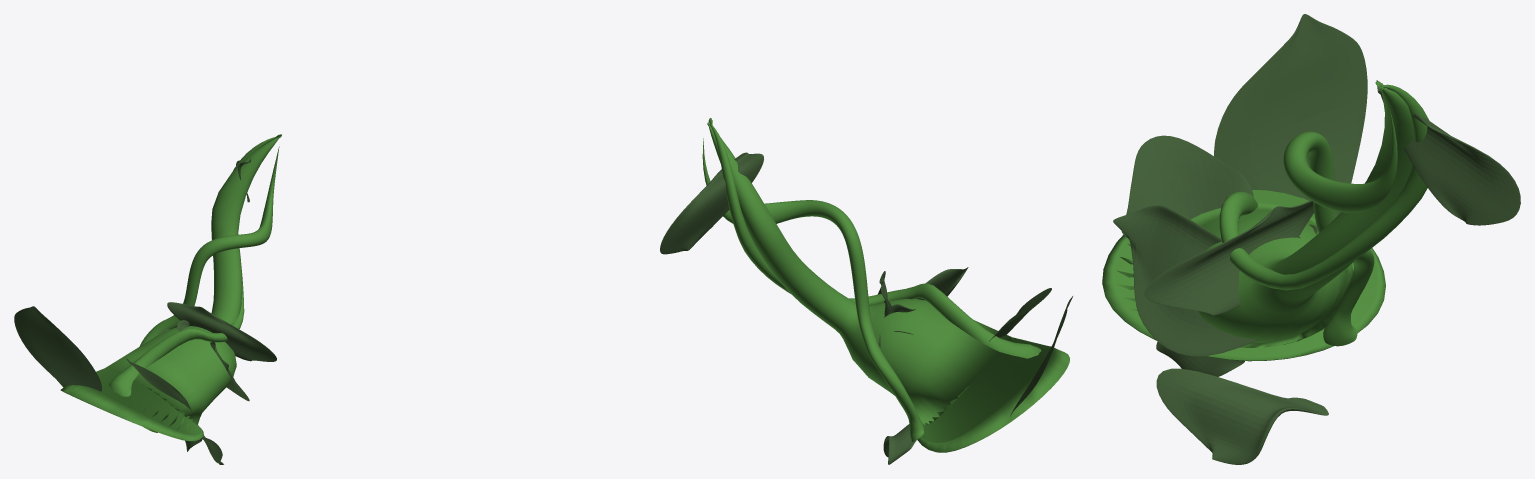
The model's file is BeansalkBridge#02.fbx.
3 renders of one model, left to right at view 1: azimuth 30°, elevation 25°; view 2: azimuth 150°, elevation 25°; view 3: azimuth 270°, elevation 25°, orthographic. The views are drawn at different scales.
Visible parts, largest first — view 1: Stalk12.066, Stalk12.066|Plane.016|Dupli|2, Stalk12.085, Stalk12.084, Stalk12.066|Plane.016|Dupli|, Stalk12.066|Plane.016|Dupli|7; view 2: Stalk12.066, Stalk12.085, Stalk12.084, Stalk12.066|Plane.016|Dupli|5, Stalk12.066|Plane.016|Dupli|3, Stalk12.066|Plane.016|Dupli|6; view 3: Stalk12.066, Stalk12.066|Plane.016|Dupli|2, Stalk12.066|Plane.016|Dupli|6, Stalk12.066|Plane.016|Dupli|3, Stalk12.085, Stalk12.066|Plane.016|Dupli|5, Stalk12.066|Plane.016|Dupli|7, Stalk12.066|Plane.016|Dupli|, Stalk12.084, Stalk12.066|Plane.016|Dupli|4.
Part boxes in pixels (<box>): Stalk12.066: <box>60,136,281,441</box>; Stalk12.066|Plane.016|Dupli|2: <box>14,306,101,391</box>; Stalk12.085: <box>139,146,279,346</box>; Stalk12.084: <box>109,134,281,432</box>; Stalk12.066|Plane.016|Dupli|: <box>167,302,276,361</box>; Stalk12.066|Plane.016|Dupli|7: <box>126,358,191,410</box>; Stalk12.066: <box>707,122,1069,452</box>; Stalk12.085: <box>702,138,923,441</box>; Stalk12.084: <box>708,118,1041,358</box>; Stalk12.066|Plane.016|Dupli|5: <box>660,152,763,254</box>; Stalk12.066|Plane.016|Dupli|3: <box>883,424,916,464</box>; Stalk12.066|Plane.016|Dupli|6: <box>916,267,968,300</box>; Stalk12.066: <box>1102,87,1413,361</box>; Stalk12.066|Plane.016|Dupli|2: <box>1214,14,1367,215</box>; Stalk12.066|Plane.016|Dupli|6: <box>1113,205,1324,356</box>; Stalk12.066|Plane.016|Dupli|3: <box>1156,368,1328,464</box>; Stalk12.085: <box>1283,108,1397,346</box>; Stalk12.066|Plane.016|Dupli|5: <box>1376,80,1520,225</box>; Stalk12.066|Plane.016|Dupli|7: <box>1121,135,1253,238</box>; Stalk12.066|Plane.016|Dupli|: <box>1144,200,1314,315</box>; Stalk12.084: <box>1219,81,1429,290</box>; Stalk12.066|Plane.016|Dupli|4: <box>1156,341,1244,376</box>.
Size of the model in its own units: 106 by 75.35 by 49.93.
